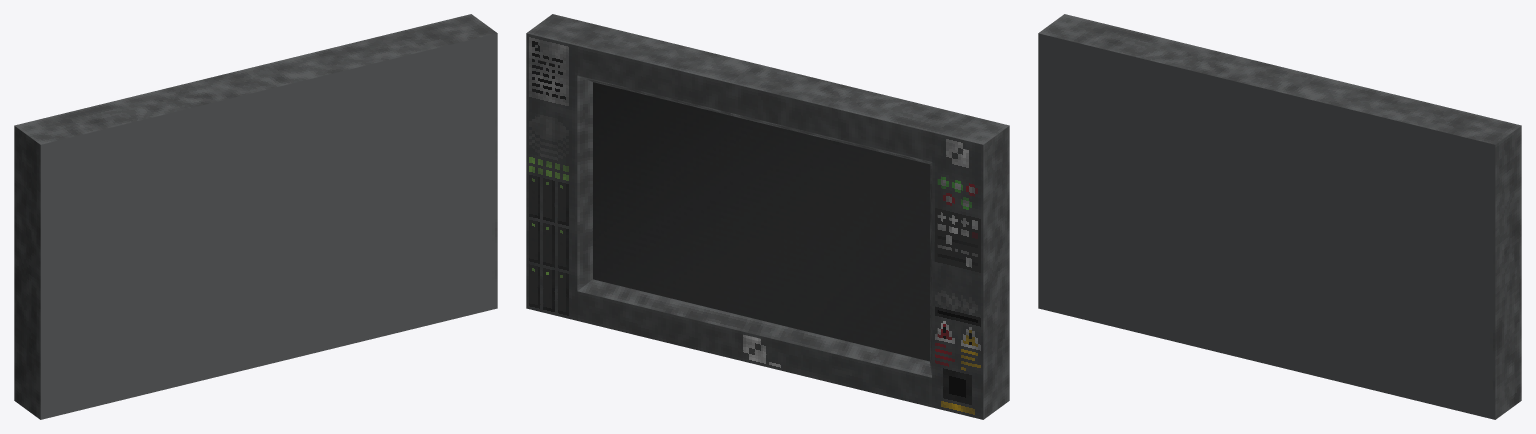
File: WideTerminal.gltf
The picture shows the model from 3 angles, left to right: view 1: azimuth 30°, elevation 25°; view 2: azimuth 150°, elevation 25°; view 3: azimuth 330°, elevation 25°; orthographic projection.
Parts seen in each view (by area): view 1: screen; view 2: screen; view 3: screen.
Boxes of the visible parts, x1=… form: screen: x1=14, y1=14, x2=497, y2=419; screen: x1=526, y1=14, x2=1009, y2=419; screen: x1=1038, y1=14, x2=1521, y2=419.
Bounding box in the file's own units: 5 × 2.88 × 0.5.
Materials: 1 (1 with a texture image).
